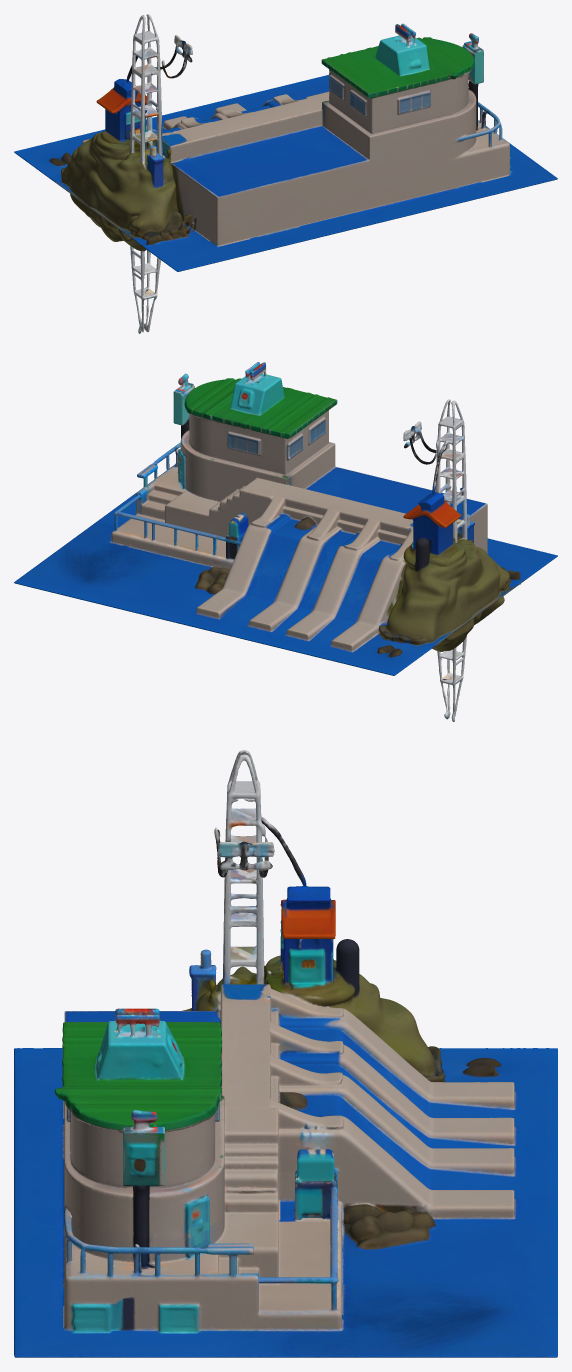
File: dam1.glb
The picture shows the model from 3 angles, top to bottom: view 1: azimuth 30°, elevation 25°; view 2: azimuth 150°, elevation 25°; view 3: azimuth 270°, elevation 25°; orthographic projection. The views are drawn at different scales.
Parts seen in each view (by area): view 1: tripo_node_e1df7282-30ef-421f-8c66-f6a355788ef1; view 2: tripo_node_e1df7282-30ef-421f-8c66-f6a355788ef1; view 3: tripo_node_e1df7282-30ef-421f-8c66-f6a355788ef1.
Boxes of the visible parts, x1=… form: tripo_node_e1df7282-30ef-421f-8c66-f6a355788ef1: x1=14, y1=14, x2=557, y2=333; tripo_node_e1df7282-30ef-421f-8c66-f6a355788ef1: x1=14, y1=362, x2=557, y2=721; tripo_node_e1df7282-30ef-421f-8c66-f6a355788ef1: x1=14, y1=750, x2=557, y2=1357.
Bounding box in the file's own units: 1 × 0.8004 × 0.7451.
Materials: 1 (1 with a texture image).
